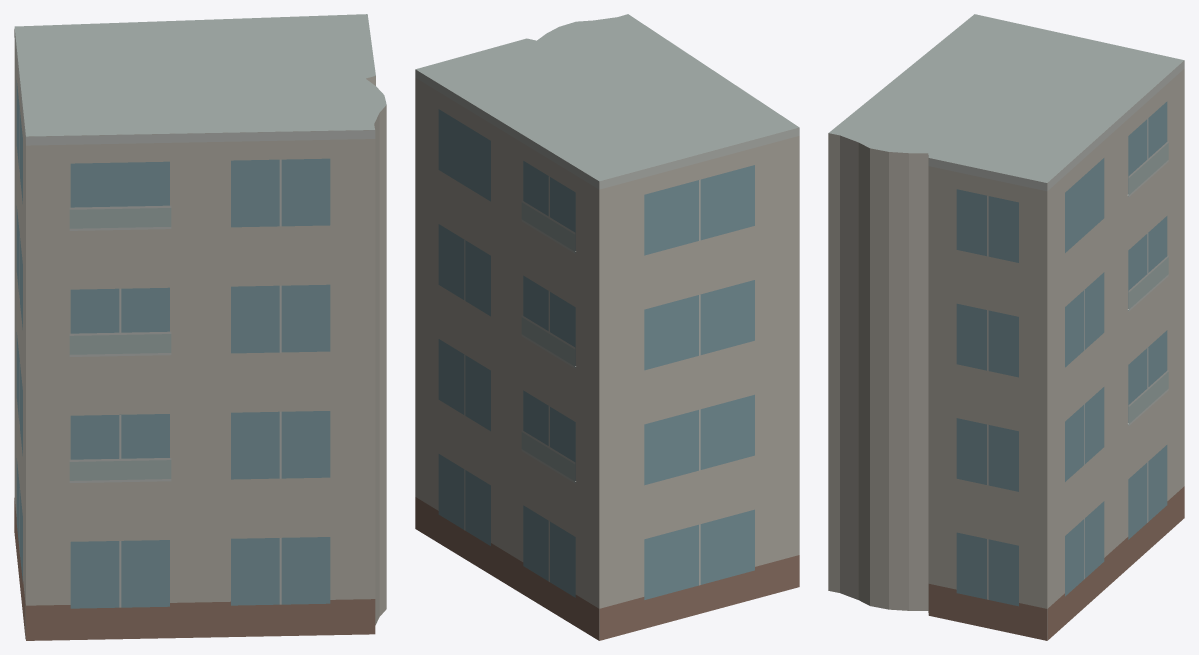
File: survey-upis-32734749.glb
3 views of the same model, side by side, from view 1: azimuth 30°, elevation 25°; view 2: azimuth 150°, elevation 25°; view 3: azimuth 270°, elevation 25° (orthographic). The views are drawn at different scales.
Parts seen in each view (by area): view 1: survey-upis-32734749.tmp; view 2: survey-upis-32734749.tmp; view 3: survey-upis-32734749.tmp.
Part boxes in pixels (x1,y1,x2,y2): survey-upis-32734749.tmp: (14, 14, 386, 640); survey-upis-32734749.tmp: (415, 14, 799, 640); survey-upis-32734749.tmp: (828, 14, 1184, 640).
Size of the model in its own units: 10.74 by 13.55 by 9.56.
